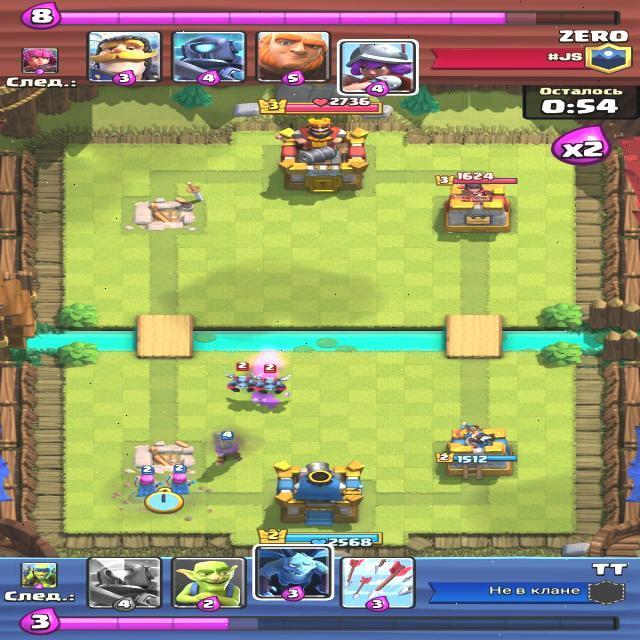EKingTower: (273, 128, 369, 199)
EnemyPrincessTower: (435, 182, 516, 233)
OArcher: (164, 465, 193, 501), (132, 468, 157, 501)
OMusk: (210, 428, 247, 470)
OwnKingTower: (270, 463, 375, 545)
OwnPrincessTower: (436, 447, 513, 475)
TowerDown: (123, 197, 211, 230), (126, 444, 206, 475)
eminion: (257, 368, 289, 397), (223, 369, 257, 395)
